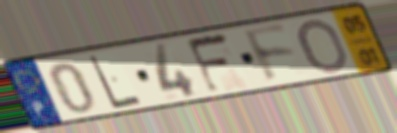0: (47, 60, 101, 115)
4: (151, 41, 201, 100)
F: (239, 22, 300, 86), (183, 30, 233, 97)
L: (86, 53, 145, 111)
O: (296, 17, 352, 75)
